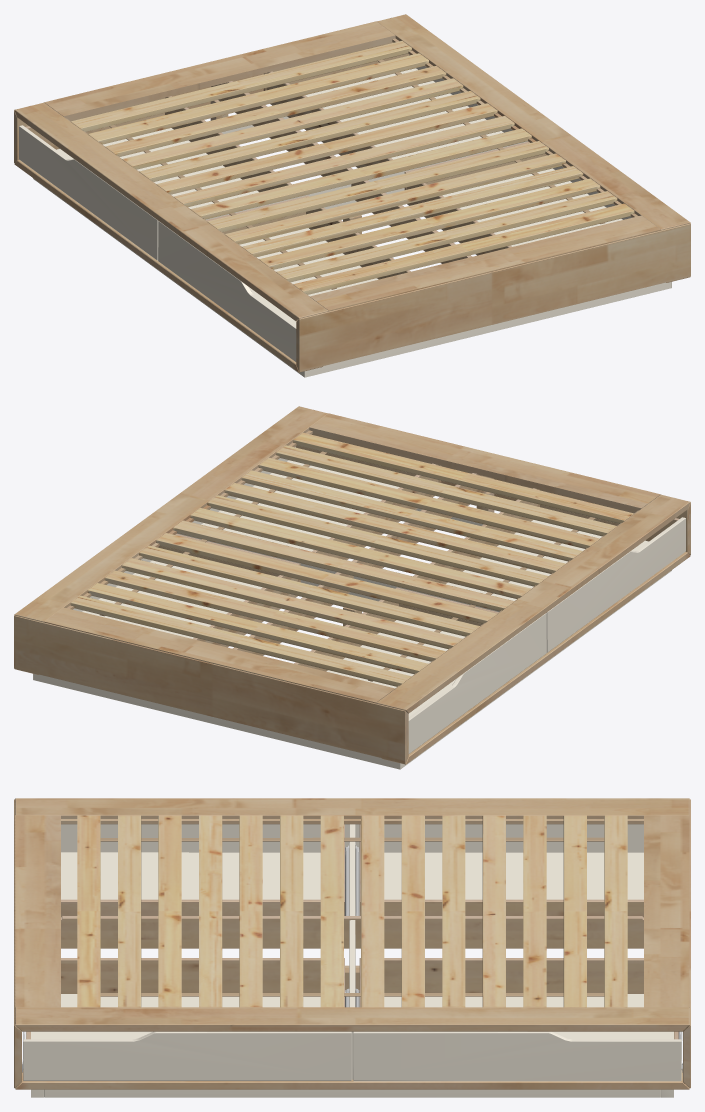
The model's file is mandal_bed_frame_with_storage_birch_whit.glb.
The picture shows the model from 3 angles, top to bottom: view 1: azimuth 30°, elevation 25°; view 2: azimuth 150°, elevation 25°; view 3: azimuth 270°, elevation 25°; orthographic projection. The views are drawn at different scales.
Parts seen in each view (by area): view 1: Mesh_0.1808; view 2: Mesh_0.1808; view 3: Mesh_0.1808.
Part boxes in pixels (x1,y1,x2,y2): Mesh_0.1808: (14,14,690,377); Mesh_0.1808: (14,406,690,769); Mesh_0.1808: (14,798,690,1097).
Size of the model in its own units: 1.6 by 0.2645 by 2.02.
1 material, 1 textured.
